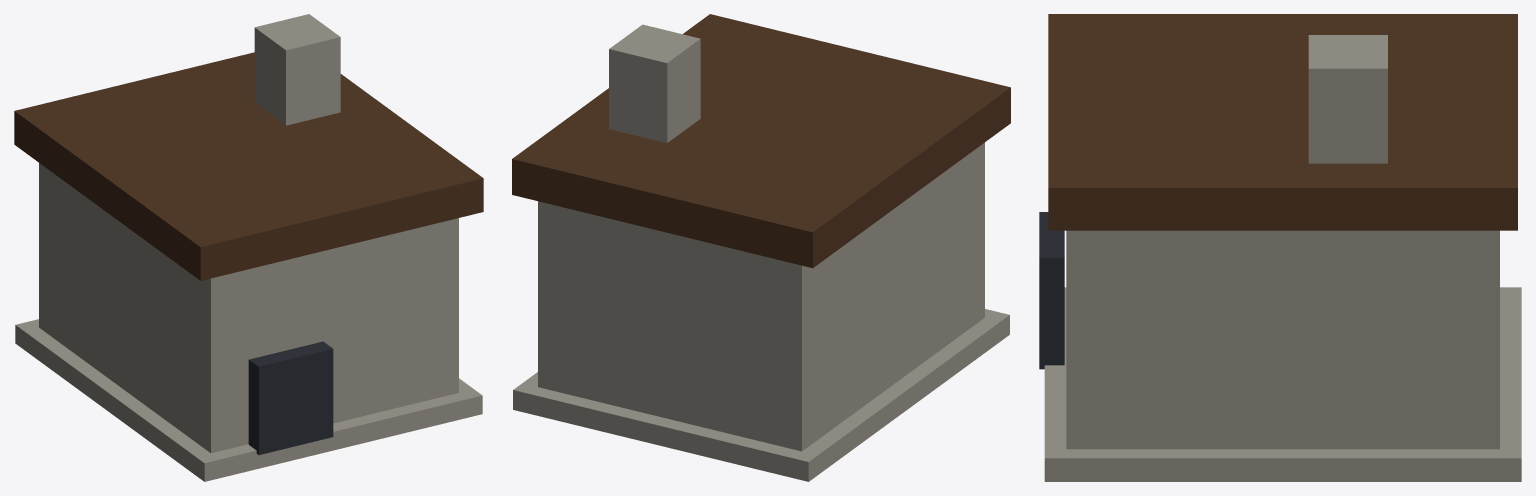
Rendered from bld_industrial_a02_lod2.glb.
3 views of the same model, side by side, from view 1: azimuth 30°, elevation 25°; view 2: azimuth 150°, elevation 25°; view 3: azimuth 270°, elevation 25° (orthographic). The views are drawn at different scales.
Visible parts, largest first — view 1: body; view 2: body; view 3: body.
Boxes of the visible parts, left/top/right/bottom form: body: left=14, top=14, right=483, bottom=481; body: left=512, top=14, right=1010, bottom=481; body: left=1039, top=14, right=1521, bottom=481.
Size of the model in its own units: 5.7 by 5.96 by 6.67.
